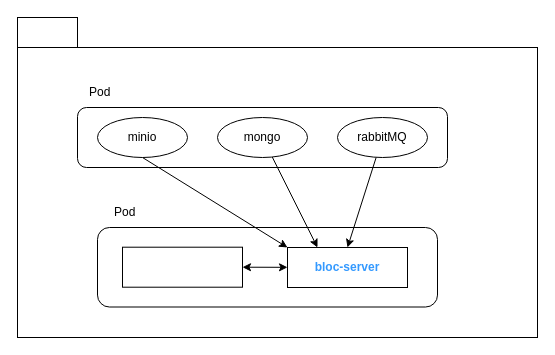
This 555x355 diagram has some shape labels left out. Each missing label, with the centre of its shape:
"bloc-frontend" belongs at point (182, 266).
"Minikube" belongs at point (47, 32).
